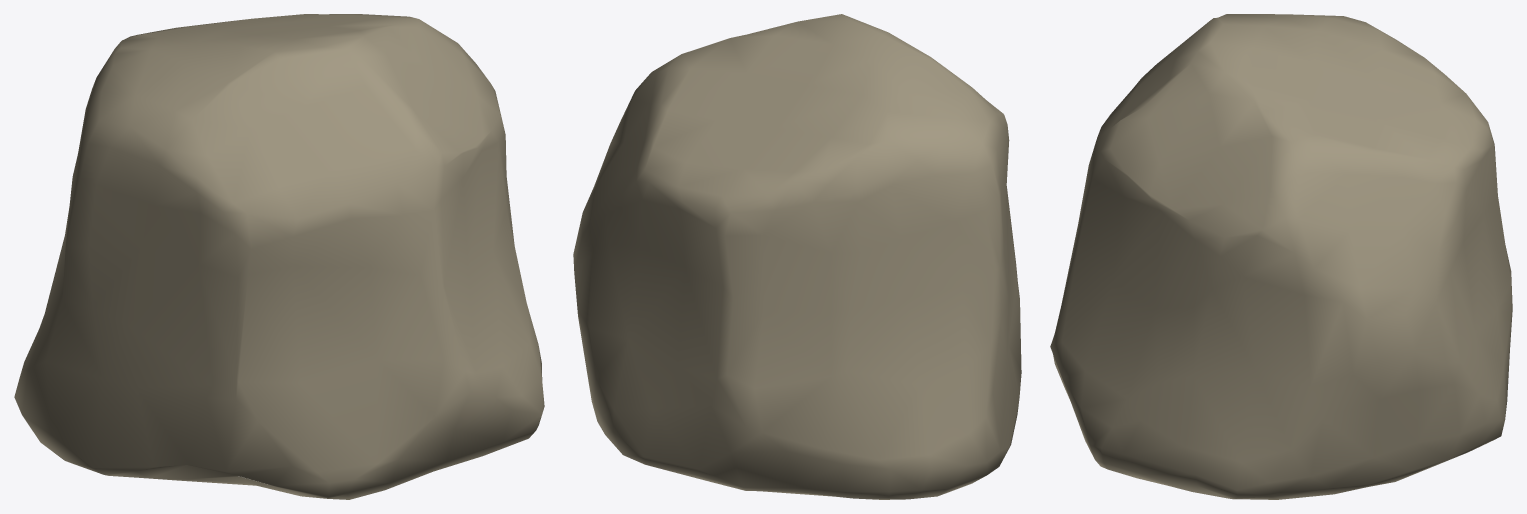
File: Rock.glb
The picture shows the model from 3 angles, left to right: view 1: azimuth 30°, elevation 25°; view 2: azimuth 150°, elevation 25°; view 3: azimuth 270°, elevation 25°; orthographic projection. The views are drawn at different scales.
Parts seen in each view (by area): view 1: Environment_Rock_1; view 2: Environment_Rock_1; view 3: Environment_Rock_1.
Part boxes in pixels (bbox=[...]): Environment_Rock_1: bbox=[14, 14, 544, 499]; Environment_Rock_1: bbox=[573, 14, 1021, 499]; Environment_Rock_1: bbox=[1050, 14, 1512, 499].
Bounding box in the file's own units: 0.6881 × 0.5872 × 0.6574.
Materials: 1 (1 with a texture image).
